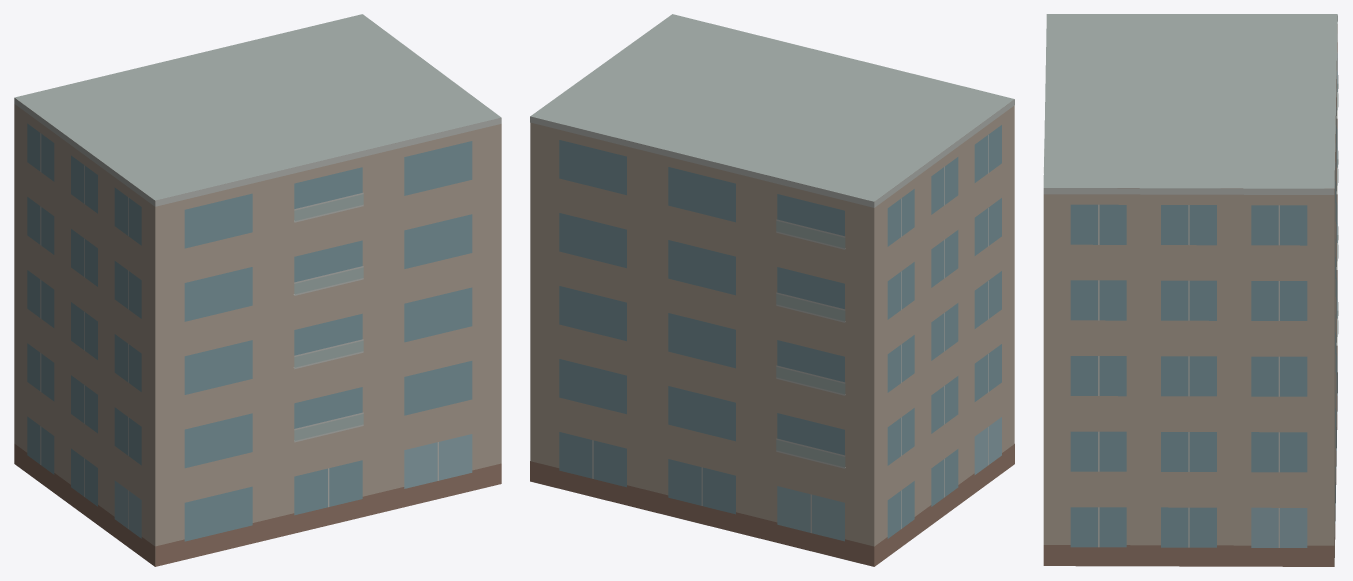
The model's file is survey-upis-32877390.glb.
3 renders of one model, left to right at view 1: azimuth 30°, elevation 25°; view 2: azimuth 150°, elevation 25°; view 3: azimuth 270°, elevation 25°, orthographic. The views are drawn at different scales.
Parts seen in each view (by area): view 1: survey-upis-32877390.tmp; view 2: survey-upis-32877390.tmp; view 3: survey-upis-32877390.tmp.
Part boxes in pixels (<box>): survey-upis-32877390.tmp: <box>14,14,501,566</box>; survey-upis-32877390.tmp: <box>530,14,1014,566</box>; survey-upis-32877390.tmp: <box>1043,14,1338,566</box>.
Bounding box in the file's own units: 14.38 × 14.5 × 10.26.
